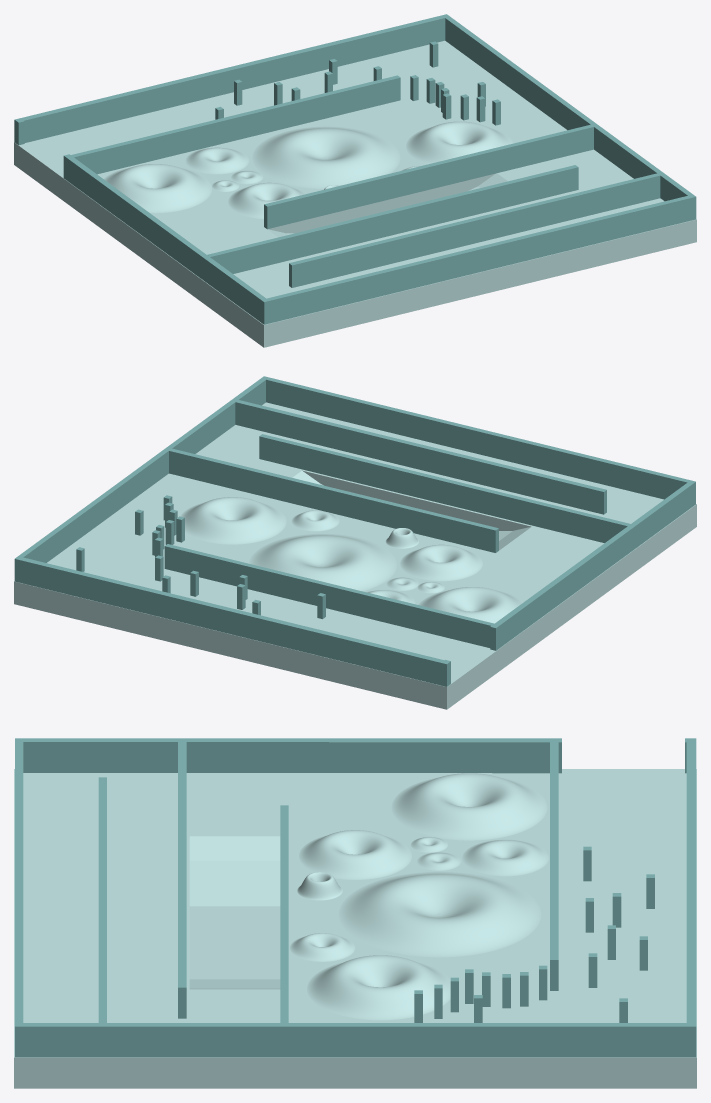
The model's file is Labirynth1.fbx.
3 views of the same model, one above another, from view 1: azimuth 30°, elevation 25°; view 2: azimuth 150°, elevation 25°; view 3: azimuth 270°, elevation 25° (orthographic). The views are drawn at different scales.
Visible parts, largest first — view 1: pCube1, pCube2, pCube4, pCube5, pCube6, pCube7, pPlane2, pPlane6, pPlane3, pPlane1, pPlane7; view 2: pCube1, pCube2, pCube4, pCube5, pCube6, pCube7, pPlane2, pPlane3, pPlane6, pPlane1, pPlane4, pPlane5; view 3: pCube1, pCube2, pPlane2, pPlane6, pPlane3, pPlane1, pPlane7, pCube5, pCube7, pCube4, pCube6, pPlane4 (+2 smaller).
Part boxes in pixels (<box>): pCube1: <box>14,40,696,347</box>; pCube2: <box>14,14,696,324</box>; pCube4: <box>289,173,660,287</box>; pCube5: <box>207,165,578,273</box>; pCube6: <box>264,124,593,229</box>; pCube7: <box>71,75,400,174</box>; pPlane2: <box>252,126,400,188</box>; pPlane6: <box>104,164,211,213</box>; pPlane3: <box>406,121,513,164</box>; pPlane1: <box>228,182,305,219</box>; pPlane7: <box>185,147,249,174</box>; pCube1: <box>14,402,696,709</box>; pCube2: <box>14,376,695,686</box>; pCube4: <box>235,400,606,514</box>; pCube5: <box>259,434,630,542</box>; pCube6: <box>169,448,498,552</box>; pCube7: <box>164,544,493,647</box>; pPlane2: <box>248,533,396,591</box>; pPlane3: <box>180,497,286,544</box>; pPlane6: <box>418,587,523,623</box>; pPlane1: <box>400,544,482,581</box>; pPlane4: <box>291,510,339,531</box>; pPlane5: <box>385,528,418,548</box>; pCube1: <box>14,769,696,1088</box>; pCube2: <box>15,738,696,1057</box>; pPlane2: <box>338,871,541,957</box>; pPlane6: <box>391,773,547,840</box>; pPlane3: <box>307,955,450,1020</box>; pPlane1: <box>299,830,411,879</box>; pPlane7: <box>462,839,549,876</box>; pCube5: <box>178,742,186,1018</box>; pCube7: <box>550,742,558,990</box>; pCube4: <box>98,777,106,1022</box>; pCube6: <box>280,805,288,1022</box>; pPlane4: <box>289,933,355,961</box>.
Bounding box in the file's own units: 20 × 2 × 20.
